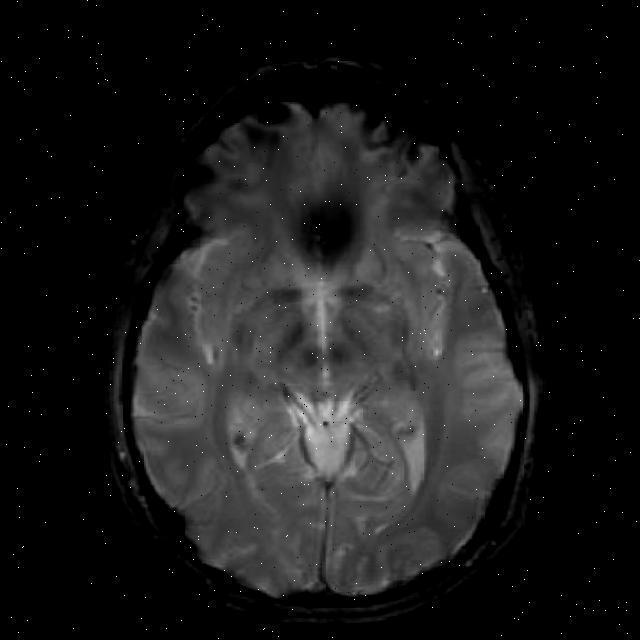MCI: (289, 168, 372, 268), (262, 280, 331, 389), (252, 118, 277, 154)
